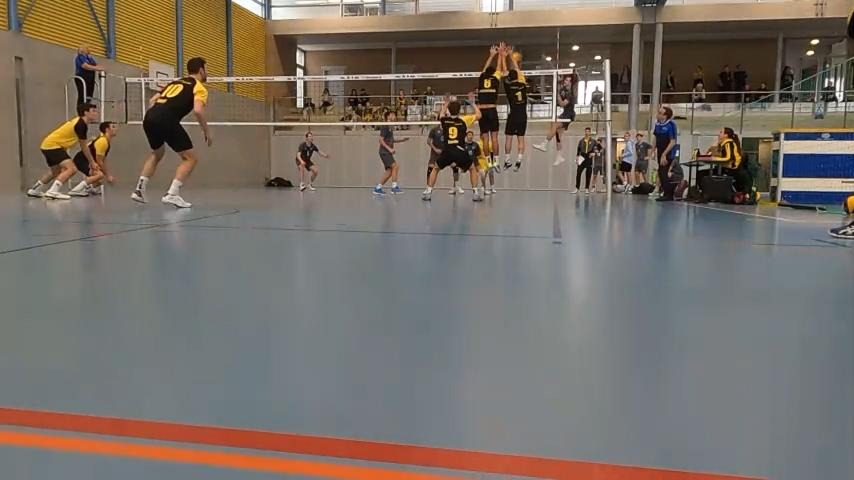attacco: (536, 59, 579, 166)
muro: (500, 40, 534, 174), (478, 43, 501, 175)
